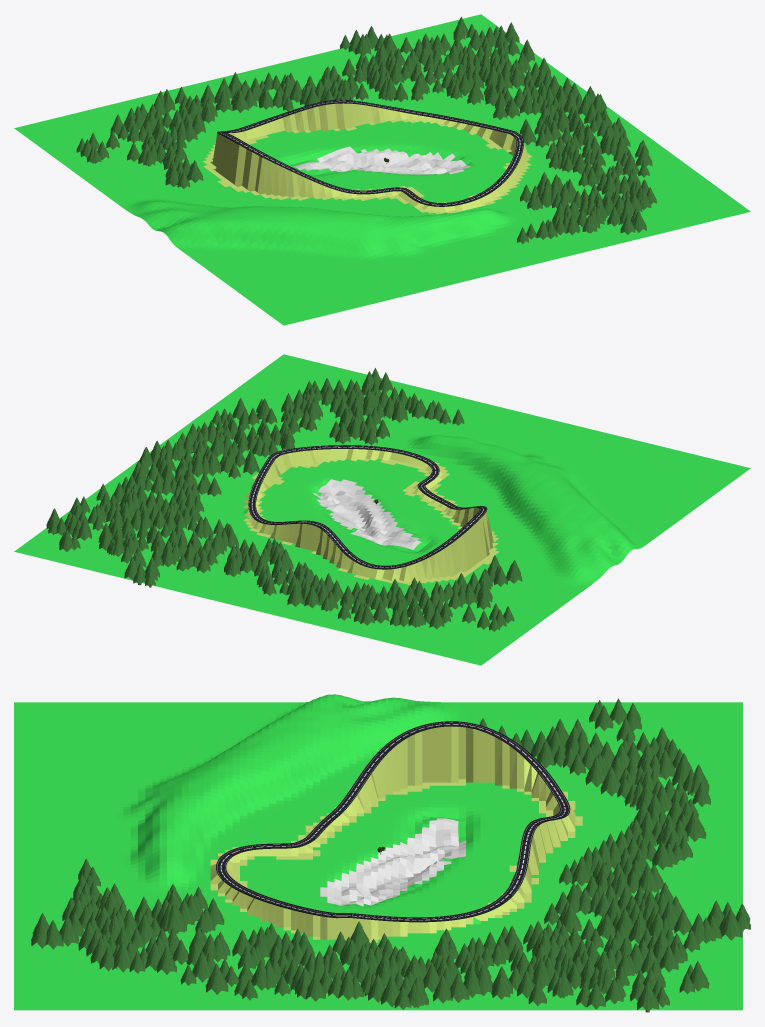
File: TestTrack.fbx
3 renders of one model, top to bottom at view 1: azimuth 30°, elevation 25°; view 2: azimuth 150°, elevation 25°; view 3: azimuth 270°, elevation 25°, orthographic. The views are drawn at different scales.
Parts seen in each view (by area): view 1: Grid, Cube; view 2: Grid, Cube; view 3: Grid, Cube.
Boxes of the visible parts, box(x1,y1,x2,y2) form: Grid: box(14, 14, 750, 325); Cube: box(217, 100, 523, 206); Grid: box(14, 354, 750, 665); Cube: box(248, 445, 487, 569); Grid: box(14, 694, 742, 1010); Cube: box(216, 721, 570, 922).
Bounding box in the file's own units: 100642 × 10630 × 101101.
